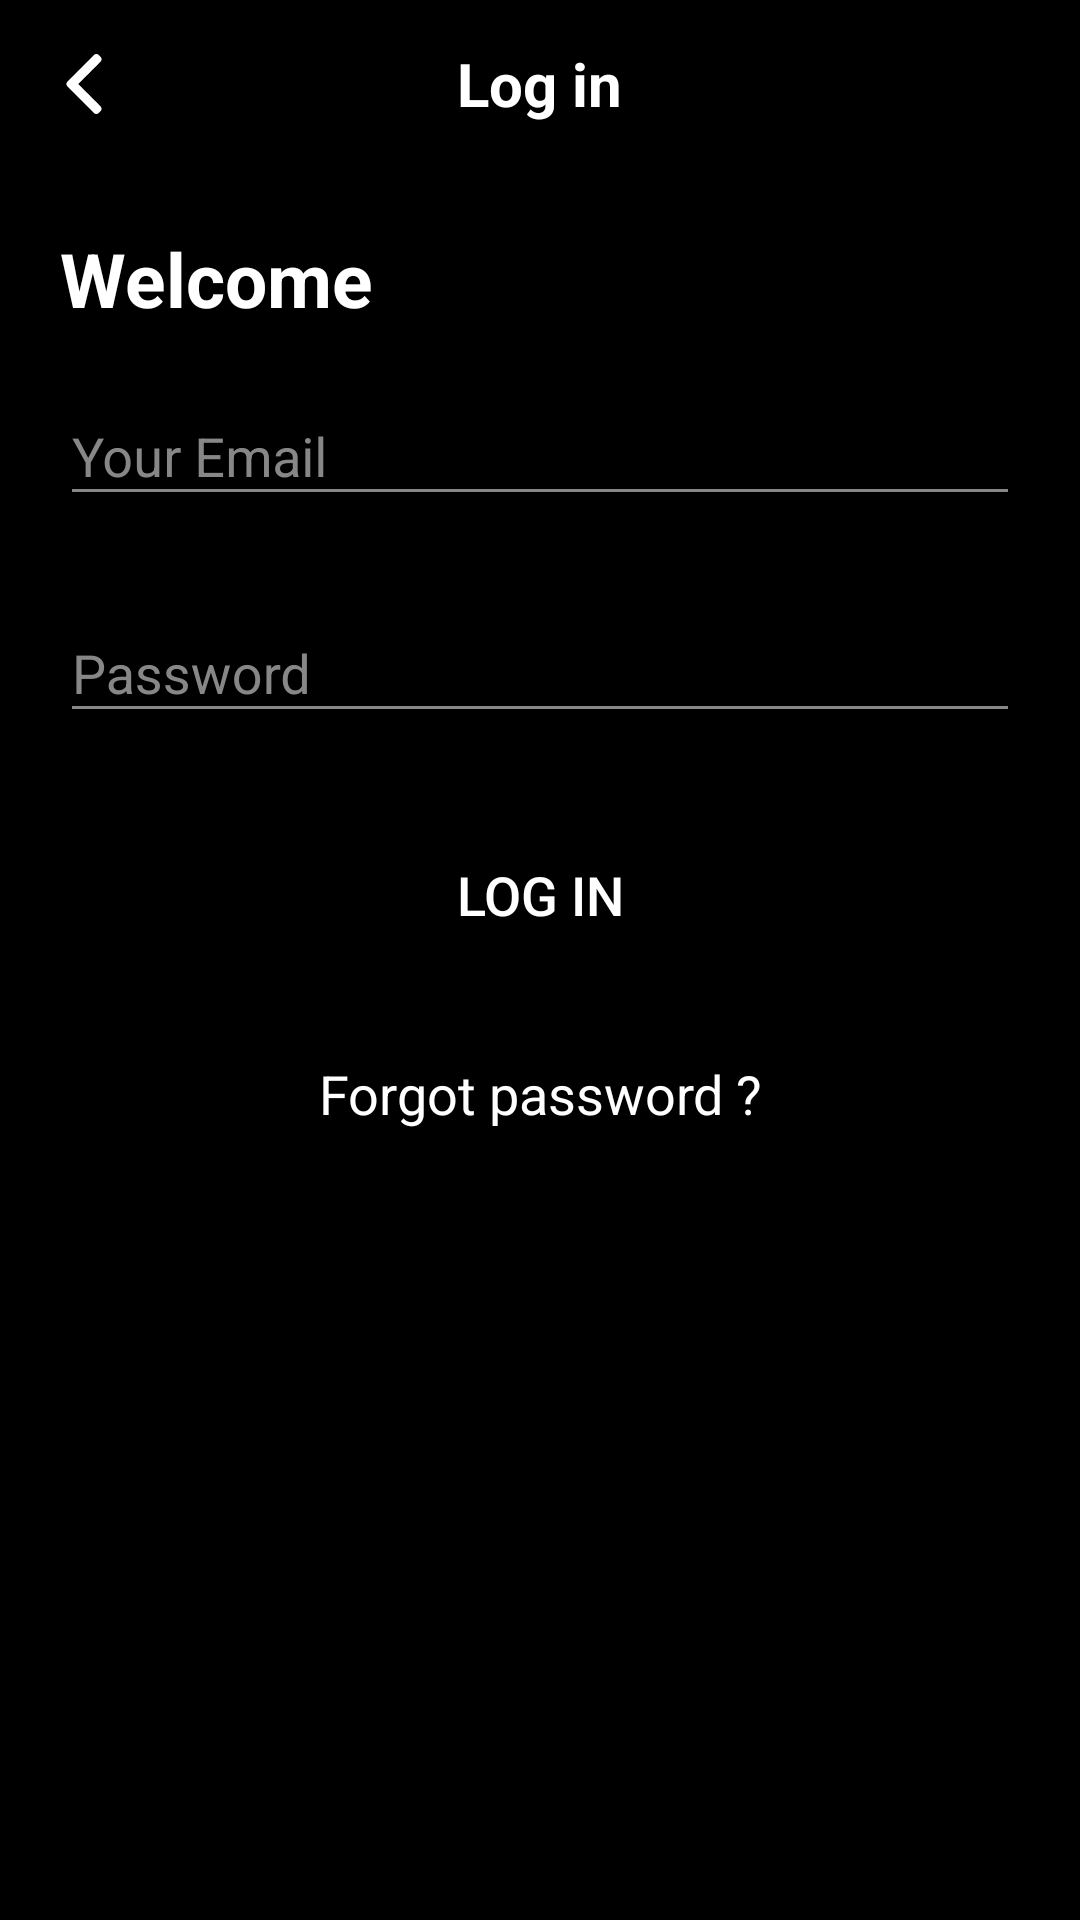

Named icons in this screenshot (1080x1920) and their centers, point (x, y):
back: point (84, 84)
